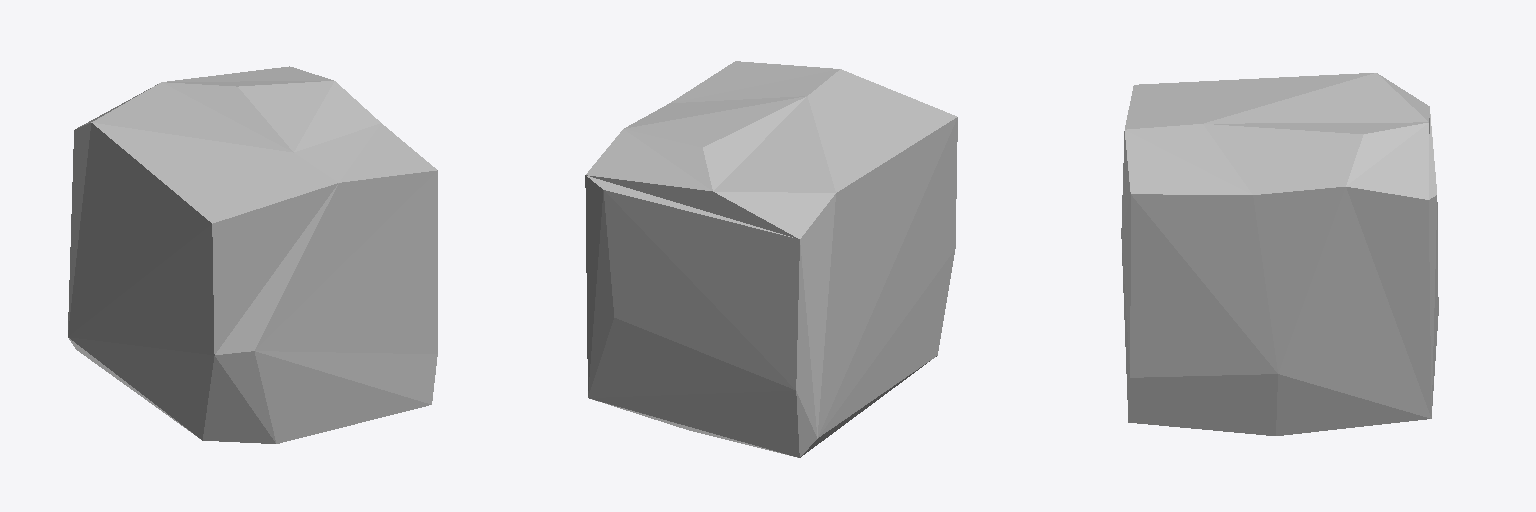
The model's file is Roca1.obj.
3 views of the same model, side by side, from view 1: azimuth 30°, elevation 25°; view 2: azimuth 150°, elevation 25°; view 3: azimuth 270°, elevation 25° (orthographic).
Visible parts, largest first — view 1: polySurface5031; view 2: polySurface5031; view 3: polySurface5031.
Boxes of the visible parts, box(x1,y1,x2,y2) form: polySurface5031: box(68, 66, 437, 443); polySurface5031: box(585, 61, 957, 457); polySurface5031: box(1121, 73, 1438, 435).
Bounding box in the file's own units: 0.3775 × 0.4038 × 0.4364.